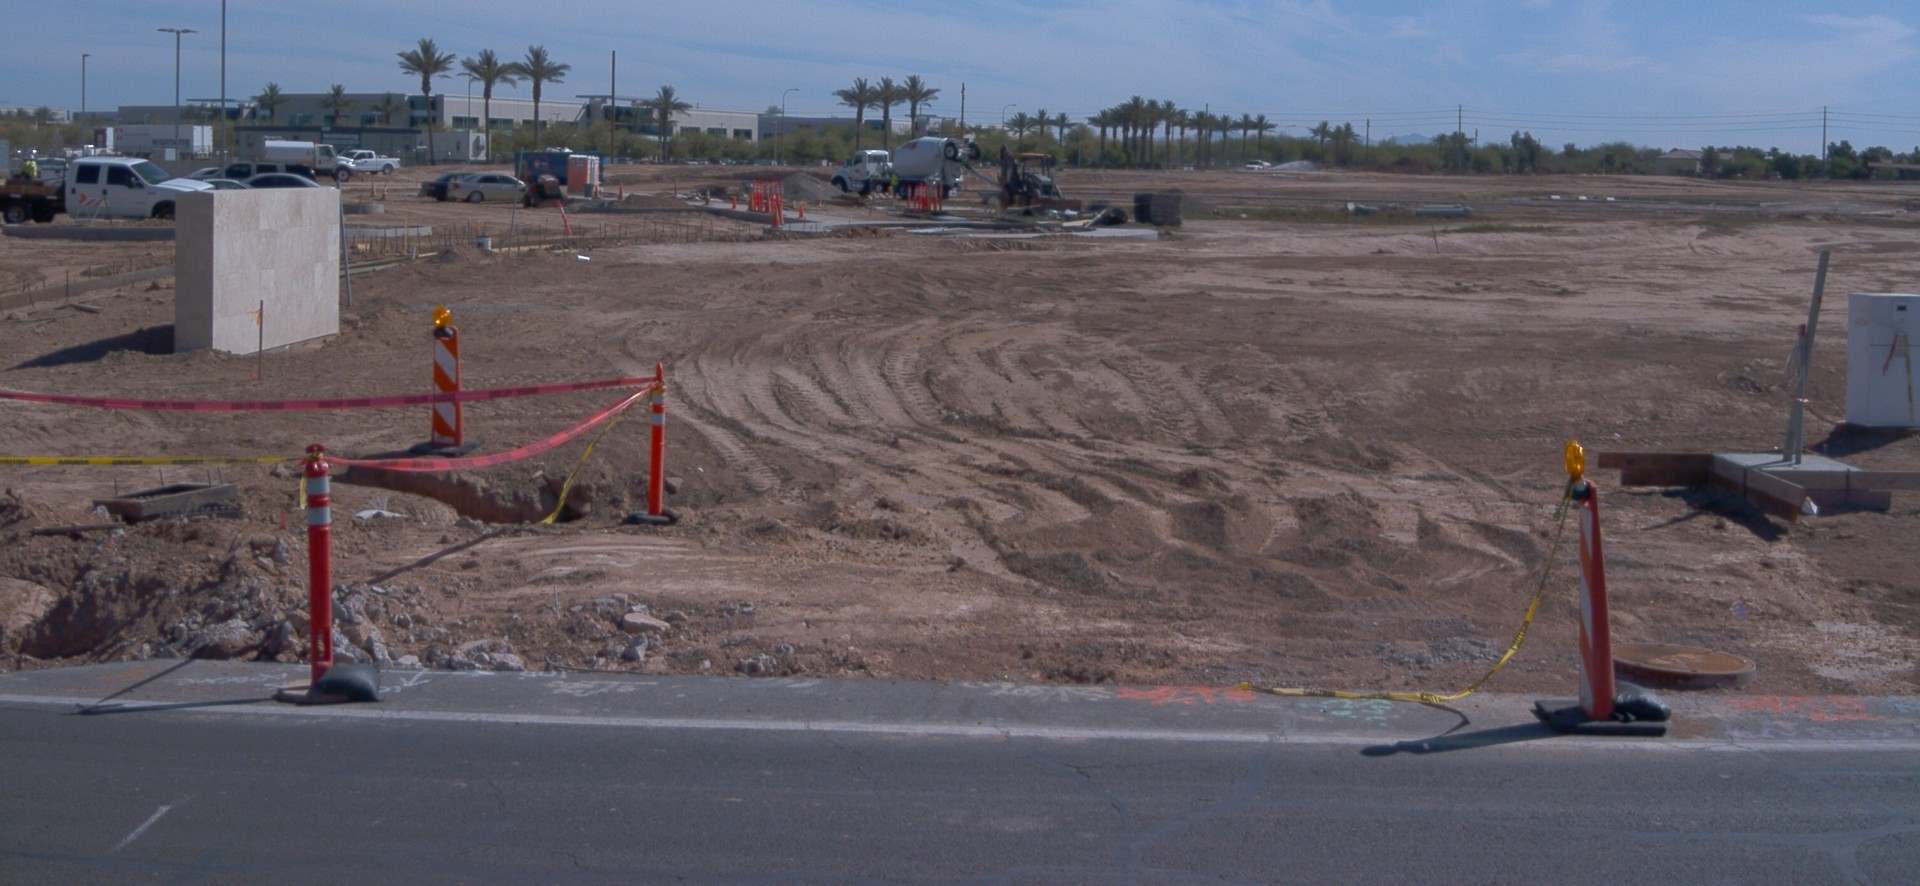TYPE_PEDESTRIAN: (890, 167, 905, 199), (26, 154, 39, 180), (20, 155, 32, 179)
TYPE_VEHICLE: (0, 156, 215, 223), (829, 136, 1003, 202), (999, 151, 1086, 223), (260, 136, 356, 185), (112, 120, 220, 159), (521, 150, 571, 209), (447, 171, 531, 206), (196, 162, 318, 184), (18, 132, 108, 160), (422, 168, 475, 208), (236, 173, 339, 191), (339, 147, 402, 176), (12, 156, 70, 185), (201, 182, 254, 195), (1245, 157, 1273, 171), (187, 167, 215, 179)
